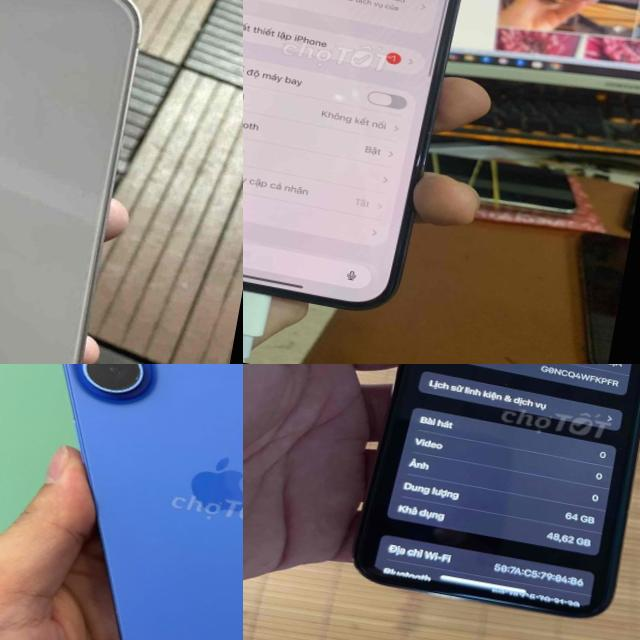gen_12_13: (0, 0, 153, 364)
gen_14: (243, 0, 487, 324)
gen_16: (62, 364, 243, 640)
gen_x_xs: (344, 364, 640, 640)
